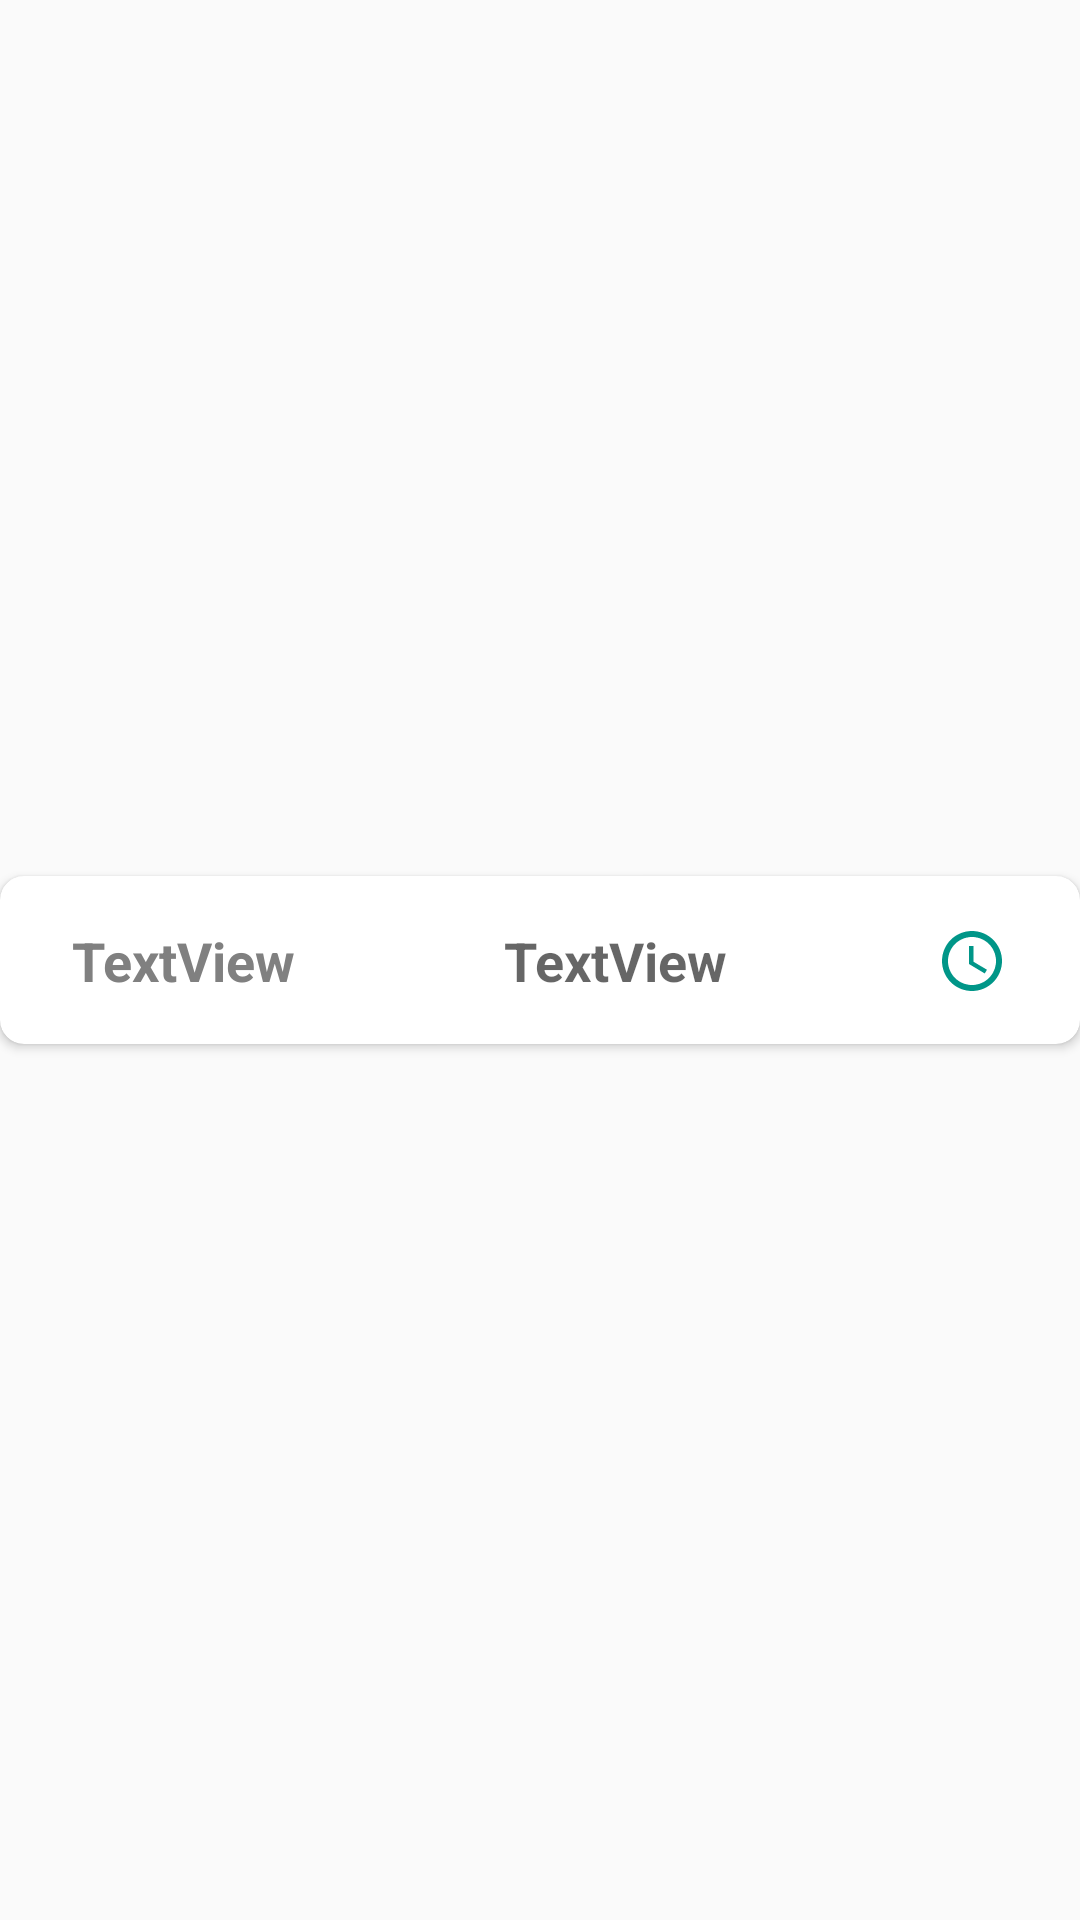

Named icons in this screenshot (1080*1920) and their bounding boxes, (x1, y1, x2, y2):
Set Time: (942, 931, 1002, 991)
